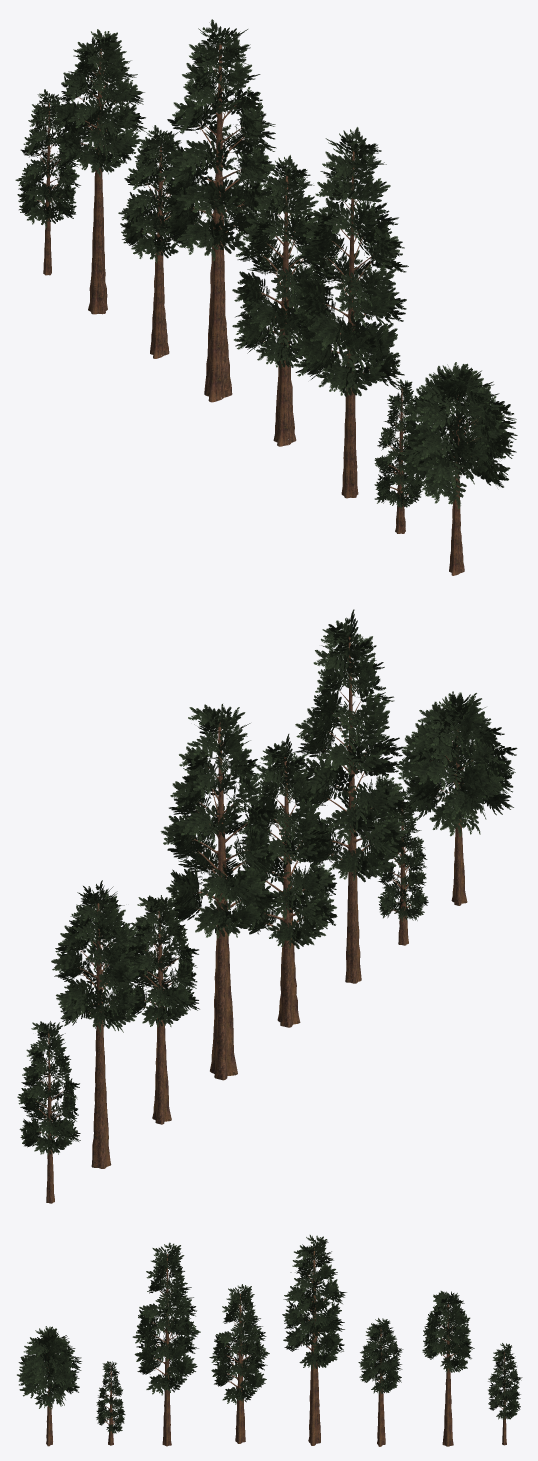
File: redwood_trees.glb
The picture shows the model from 3 angles, top to bottom: view 1: azimuth 30°, elevation 25°; view 2: azimuth 150°, elevation 25°; view 3: azimuth 270°, elevation 25°; orthographic projection. The views are drawn at different scales.
Parts seen in each view (by area): view 1: U3DMesh.001_9, U3DMesh.006_66, U3DMesh.004_44, U3DMesh.007_83, U3DMesh.002_22, U3DMesh.005_53, U3DMesh_0, U3DMesh.003_39; view 2: U3DMesh.006_66, U3DMesh.001_9, U3DMesh.004_44, U3DMesh.007_83, U3DMesh.002_22, U3DMesh.005_53, U3DMesh_0, U3DMesh.003_39; view 3: U3DMesh.001_9, U3DMesh.006_66, U3DMesh.004_44, U3DMesh.007_83, U3DMesh.002_22, U3DMesh.005_53, U3DMesh_0, U3DMesh.003_39.
Part boxes in pixels (bbox=[...]): U3DMesh.001_9: bbox=[291, 127, 408, 498]; U3DMesh.006_66: bbox=[158, 19, 276, 402]; U3DMesh.004_44: bbox=[232, 155, 334, 446]; U3DMesh.007_83: bbox=[399, 362, 517, 575]; U3DMesh.002_22: bbox=[53, 29, 146, 314]; U3DMesh.005_53: bbox=[118, 125, 200, 358]; U3DMesh_0: bbox=[15, 89, 80, 275]; U3DMesh.003_39: bbox=[374, 379, 424, 533]; U3DMesh.006_66: bbox=[160, 704, 279, 1080]; U3DMesh.001_9: bbox=[292, 609, 408, 983]; U3DMesh.004_44: bbox=[238, 734, 337, 1027]; U3DMesh.007_83: bbox=[396, 691, 517, 905]; U3DMesh.002_22: bbox=[51, 880, 145, 1168]; U3DMesh.005_53: bbox=[127, 895, 199, 1124]; U3DMesh_0: bbox=[17, 1021, 80, 1203]; U3DMesh.003_39: bbox=[377, 788, 428, 945]; U3DMesh.001_9: bbox=[132, 1242, 200, 1446]; U3DMesh.006_66: bbox=[282, 1235, 346, 1445]; U3DMesh.004_44: bbox=[209, 1284, 269, 1443]; U3DMesh.007_83: bbox=[17, 1326, 81, 1446]; U3DMesh.002_22: bbox=[422, 1291, 474, 1446]; U3DMesh.005_53: bbox=[358, 1318, 403, 1446]; U3DMesh_0: bbox=[488, 1343, 522, 1445]; U3DMesh.003_39: bbox=[96, 1361, 125, 1445].
Bounding box in the file's own units: 13.03 × 41.36 × 90.74.
16 materials, 16 textured.
